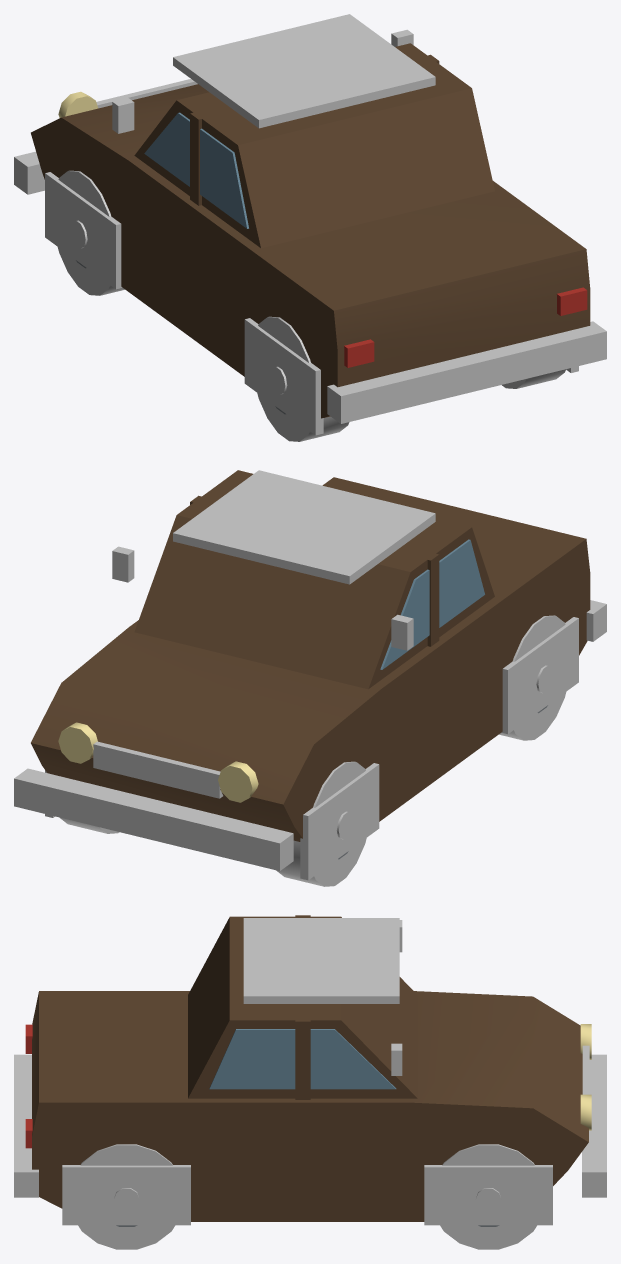
File: kodiak.obj
The picture shows the model from 3 angles, top to bottom: view 1: azimuth 30°, elevation 25°; view 2: azimuth 150°, elevation 25°; view 3: azimuth 270°, elevation 25°; orthographic projection. The views are drawn at different scales.
Visible parts, largest first — view 1: model; view 2: model; view 3: model.
Boxes of the visible parts, left/top/right/bottom form: model: left=14, top=14, right=606, bottom=441; model: left=14, top=470, right=606, bottom=886; model: left=14, top=915, right=606, bottom=1249.
Size of the model in its own units: 2.22 by 1.87 by 4.26.
